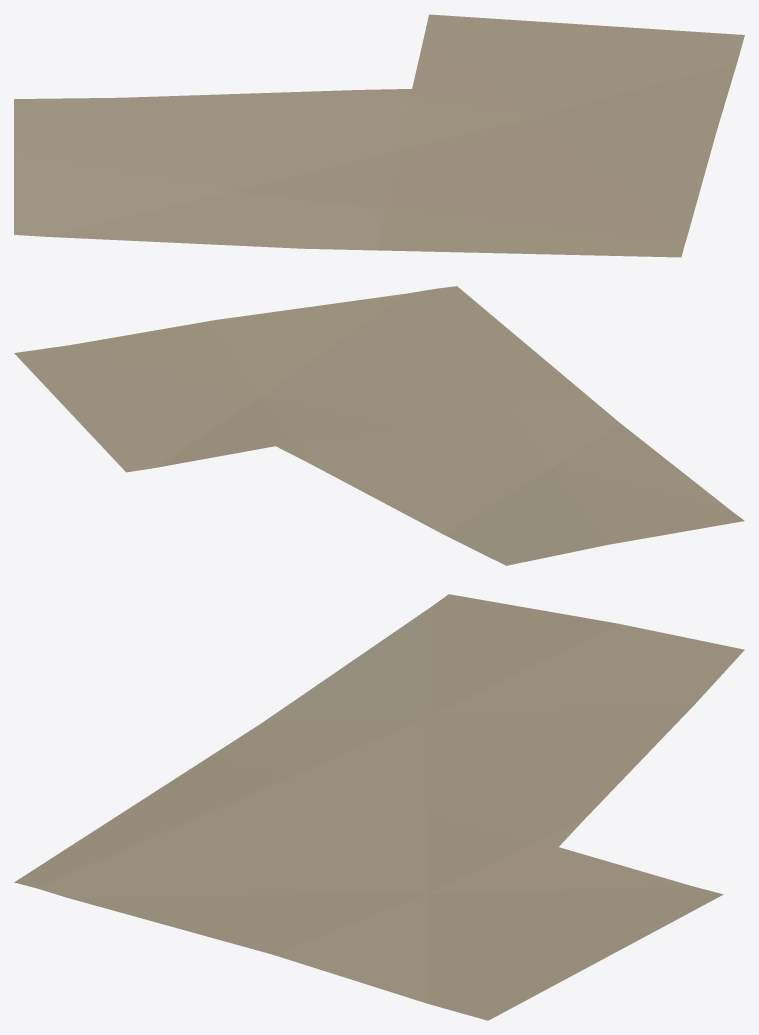
Rendered from farm_5_-1_soil.glb.
3 views of the same model, one above another, from view 1: azimuth 30°, elevation 25°; view 2: azimuth 150°, elevation 25°; view 3: azimuth 270°, elevation 25° (orthographic). The views are drawn at different scales.
Visible parts, largest first — view 1: geometry_0; view 2: geometry_0; view 3: geometry_0.
Part boxes in pixels (x1,y1,x2,y2): geometry_0: (14, 14, 744, 257); geometry_0: (14, 286, 744, 565); geometry_0: (14, 594, 744, 1020).
Bounding box in the file's own units: 197 × 5.28 × 140.
